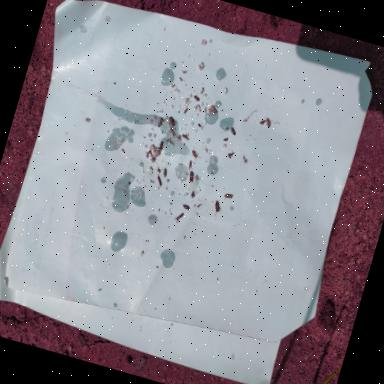pbw: (213, 200, 223, 213), (188, 170, 196, 184), (224, 192, 234, 201), (168, 116, 176, 126), (230, 127, 238, 135), (191, 150, 199, 158), (177, 212, 184, 220), (193, 95, 201, 102), (266, 118, 272, 127), (158, 118, 164, 127), (182, 134, 190, 140), (183, 204, 190, 210), (163, 168, 168, 176), (160, 141, 164, 150), (188, 160, 192, 168)
